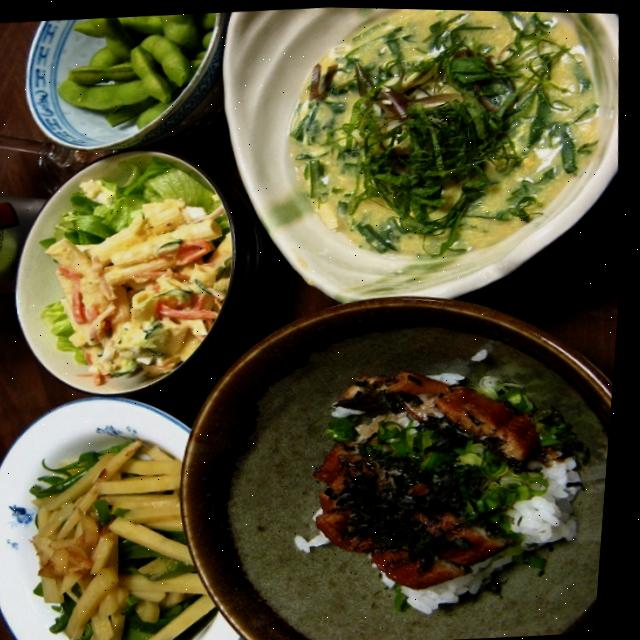蔬菜料理: (12, 144, 246, 383)
